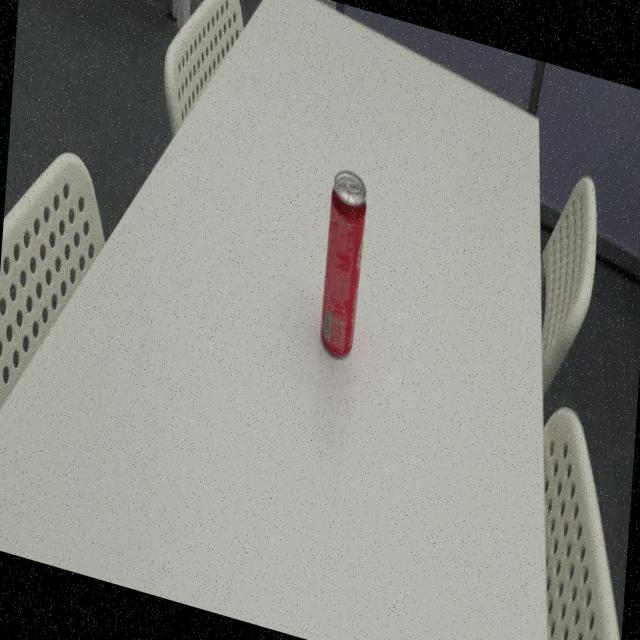coca-cola: (317, 162, 371, 371)
